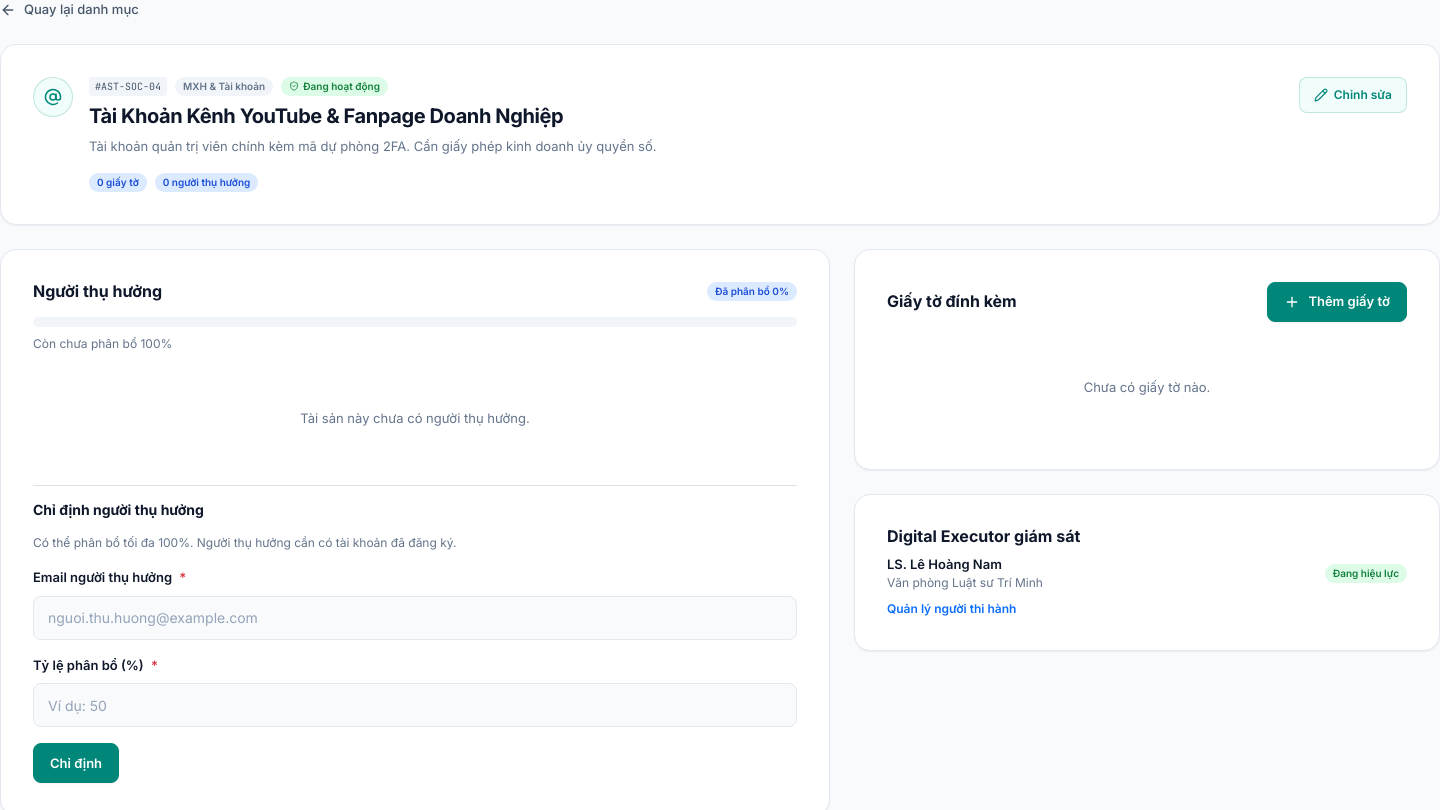
Scenario: AssetDetailPage assign beneficiary › assign_ValidInput_AddsRowAndUpdatesTotal
This screenshot has width=1440, height=810.
Type "long.tran@example.com" into the field labelled "Email người thụ hưởng *". click: (415, 618)
box: [33,596,797,640]
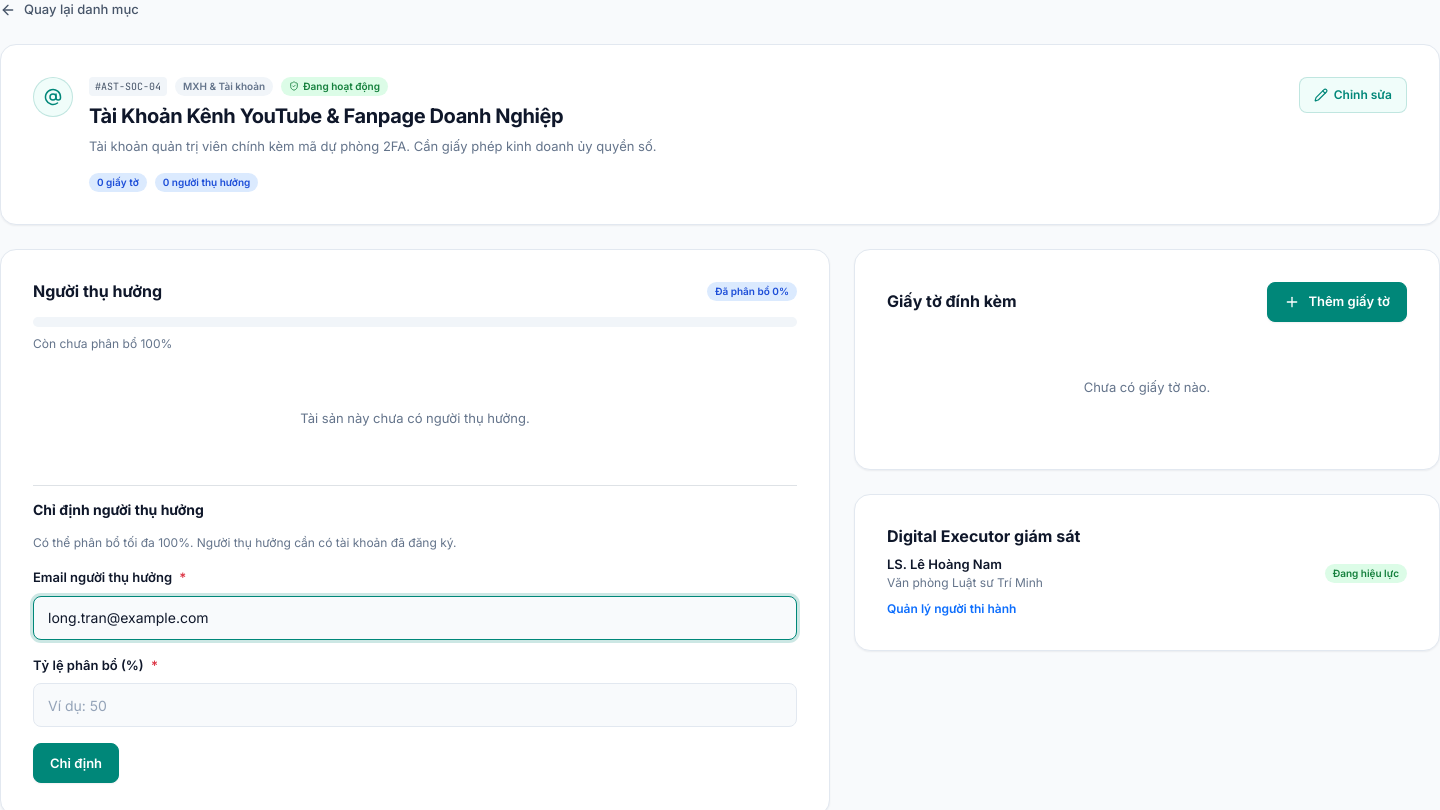
Type "50" into the field labelled "Tỷ lệ phân bổ (%) *". click: (415, 705)
box: [33,683,797,727]
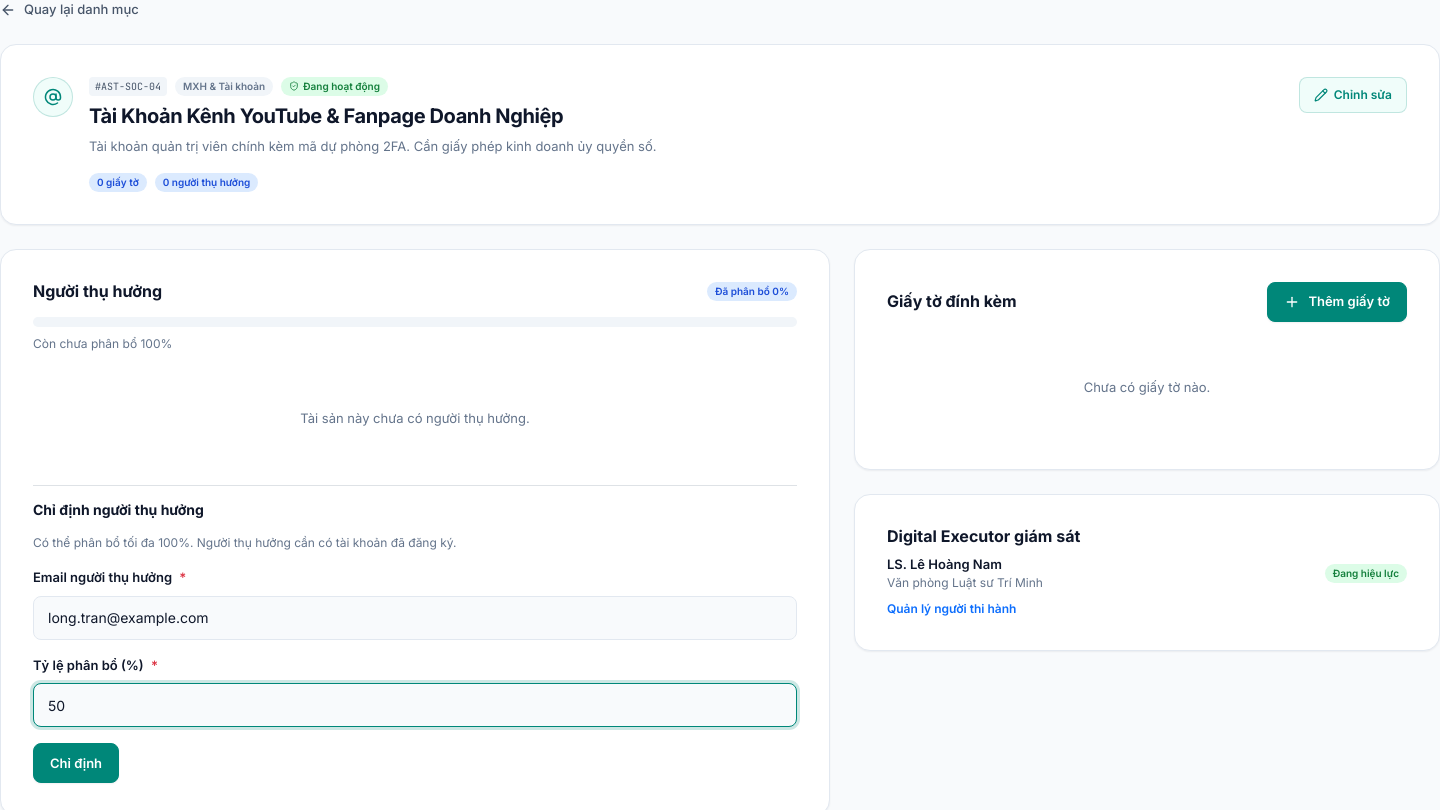
Click the button "Chỉ định". click: click(76, 763)
box: [33,743,119,783]
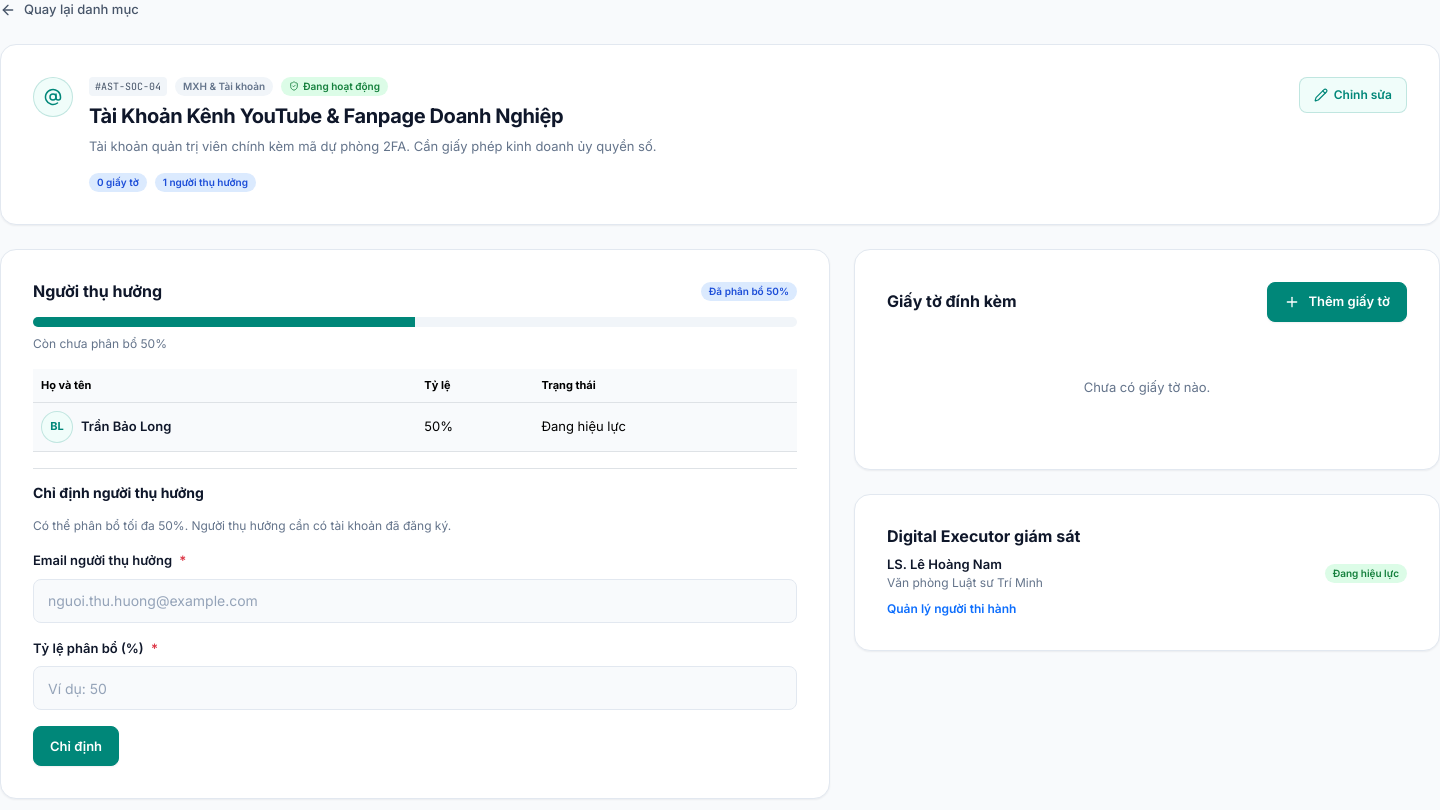
Expected: the row "BL Trần Bảo Long 50% Đang hiệu lực" is shown, [33,402,797,451]
Expected: the text "Đã phân bổ 50%" is shown, [701,282,797,301]
